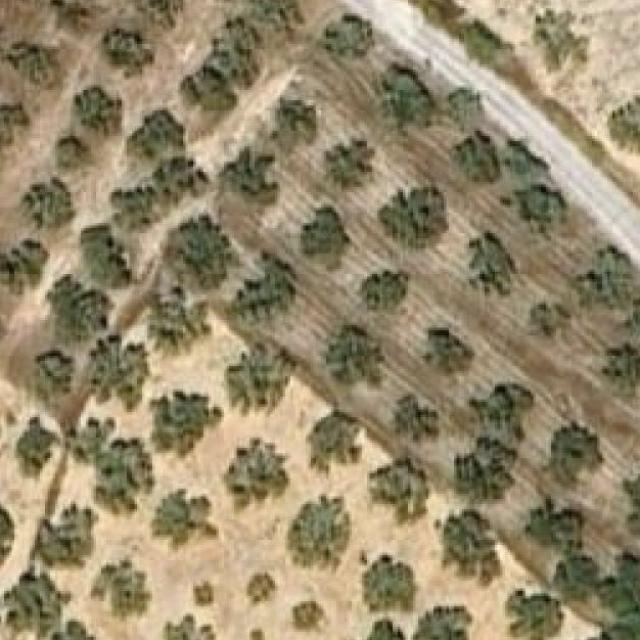Tree: (112, 108, 208, 231), (70, 417, 156, 517), (4, 572, 96, 640), (166, 216, 240, 292), (287, 494, 357, 573), (147, 272, 212, 357), (224, 248, 295, 320), (377, 184, 449, 254), (224, 438, 290, 512), (45, 276, 114, 346), (150, 392, 222, 458), (457, 438, 529, 504), (86, 333, 147, 410), (377, 61, 444, 131), (226, 341, 285, 417), (149, 489, 219, 553), (544, 422, 605, 492), (444, 509, 500, 584), (369, 461, 428, 528), (469, 383, 534, 443), (571, 246, 631, 311), (40, 502, 99, 568), (324, 325, 386, 385), (91, 558, 150, 620), (309, 410, 365, 474), (534, 11, 588, 73), (362, 553, 416, 615), (20, 177, 76, 236), (442, 131, 503, 185), (469, 231, 518, 298), (222, 150, 278, 206), (81, 226, 132, 287), (525, 502, 585, 553), (270, 97, 316, 157), (70, 85, 121, 139), (300, 206, 350, 260), (0, 242, 48, 296), (326, 139, 372, 193), (14, 417, 53, 479), (389, 393, 438, 442), (181, 67, 235, 111), (604, 93, 640, 157), (505, 593, 554, 640), (423, 328, 472, 374), (26, 350, 76, 394), (411, 606, 475, 640), (362, 269, 411, 313), (329, 14, 375, 59), (101, 29, 147, 74), (516, 187, 562, 228), (9, 46, 55, 85), (551, 560, 597, 599), (602, 343, 640, 388), (162, 613, 216, 640), (614, 290, 640, 344), (132, 0, 183, 27), (294, 601, 329, 635), (622, 471, 640, 535), (247, 574, 278, 610), (0, 493, 14, 570), (55, 136, 86, 170), (359, 618, 405, 640), (193, 581, 214, 606)
